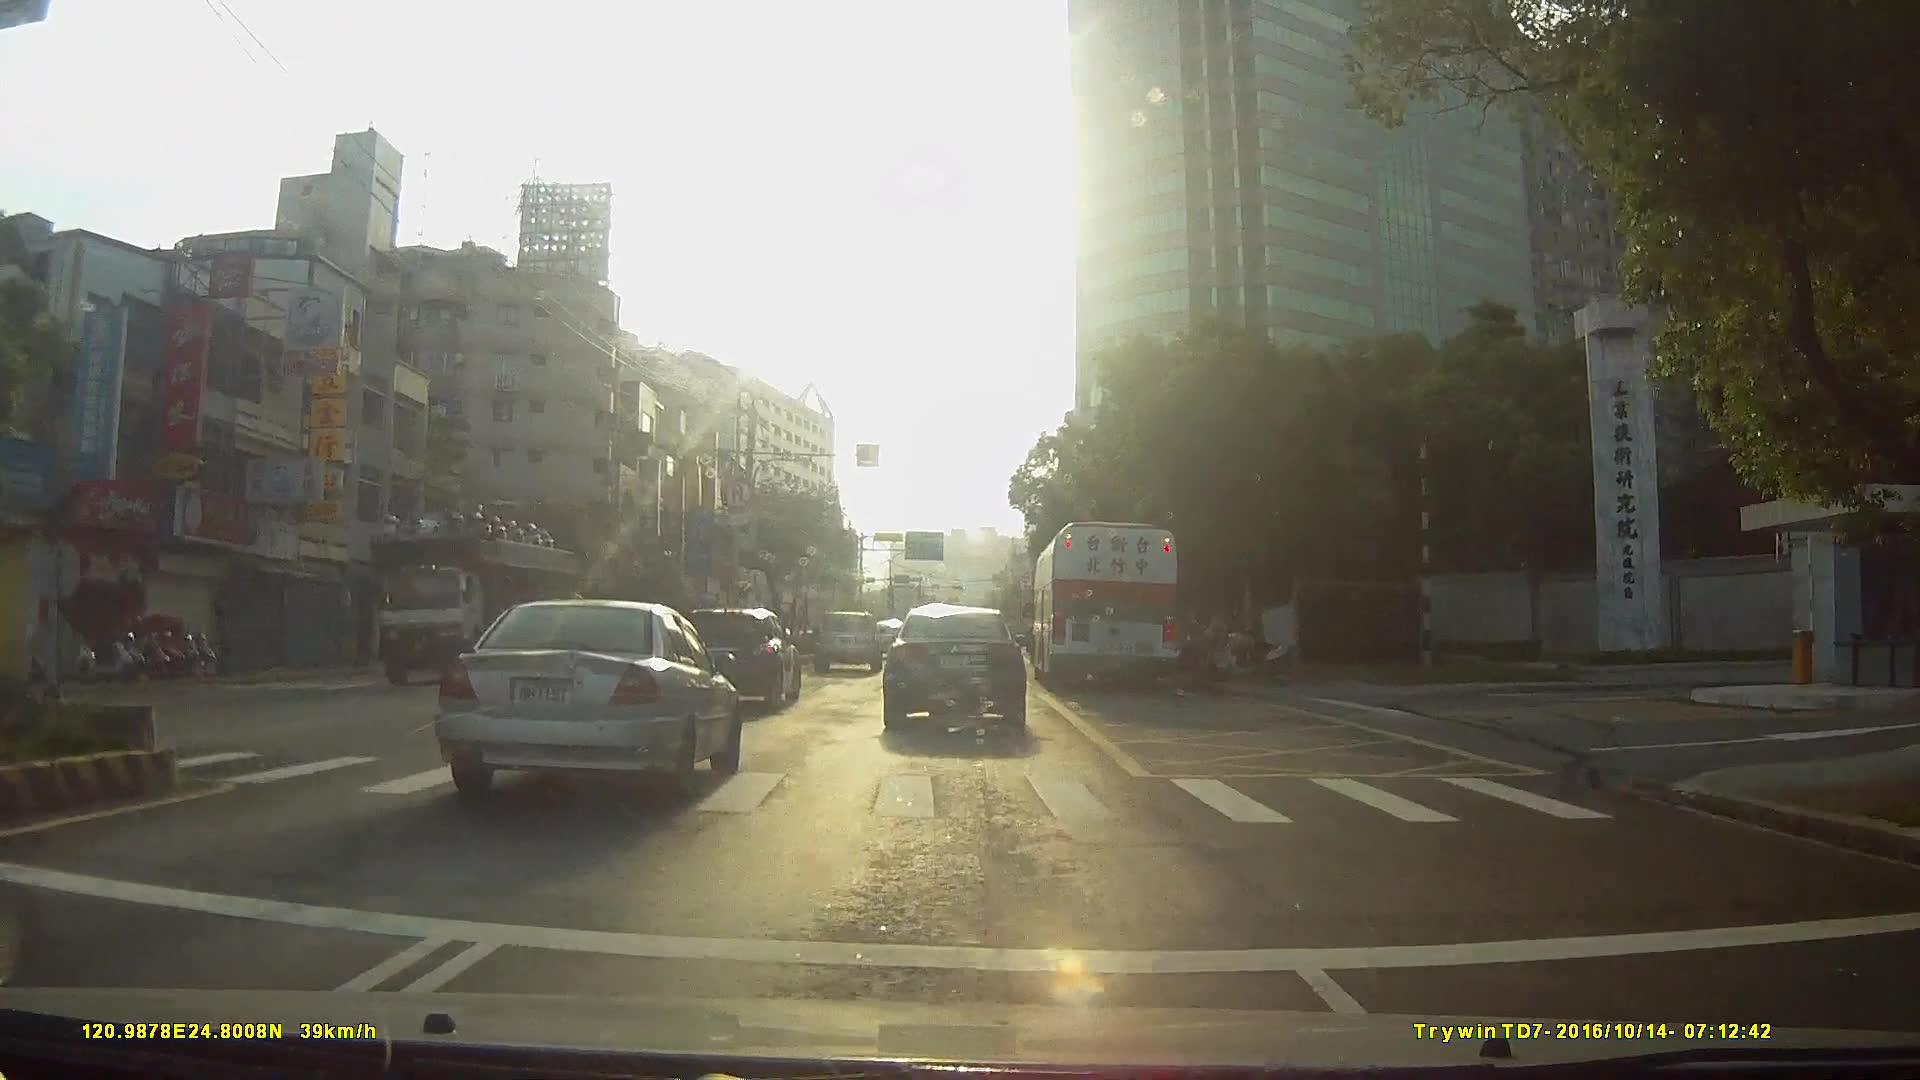vehicle: (423, 596, 738, 804), (367, 489, 593, 696), (1031, 516, 1182, 692), (880, 599, 1026, 731), (675, 607, 800, 709), (812, 608, 884, 673)
